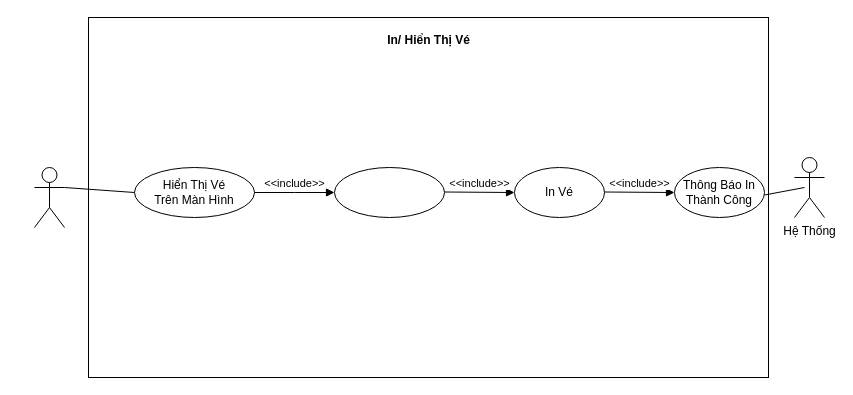
The diagram is 853 pixels wide and 395 high, and some of its shapes have lost their labels. The centre of each missing label's shape, as x and y in pixels:
"Người dùng" belongs at [49,197].
"Xác Nhân Thông Tin Trên Vé" belongs at [389,192].
